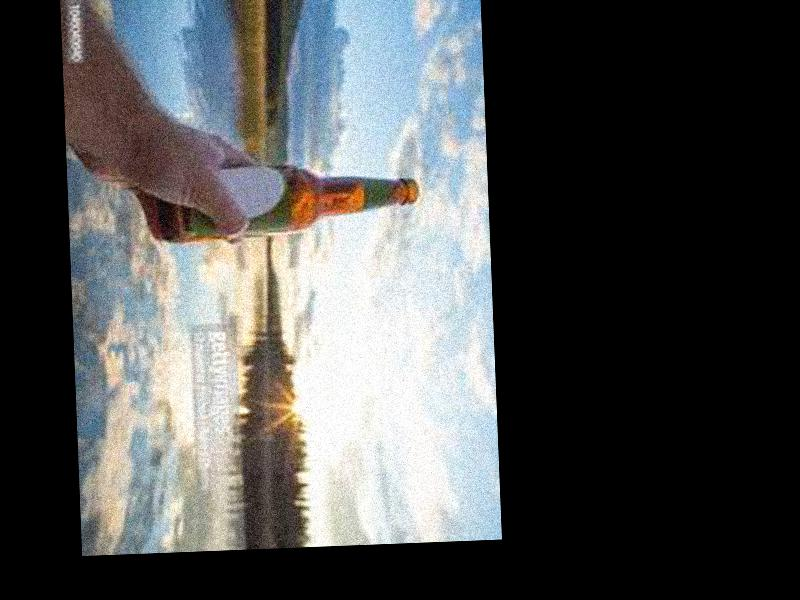Beer: (160, 157, 422, 247)
